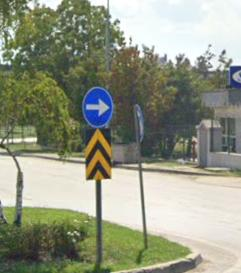turnright: (82, 88, 114, 128)
